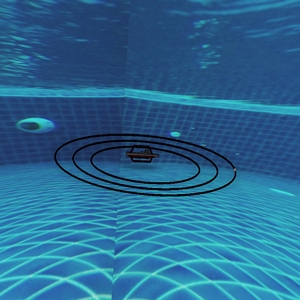circle: (47, 107, 246, 211)
submarine: (126, 145, 159, 164)
